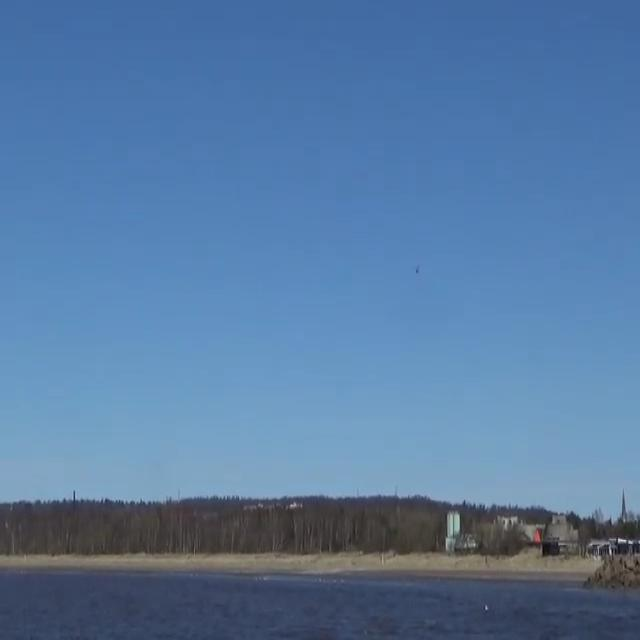Helicopter: (402, 251, 432, 288)
